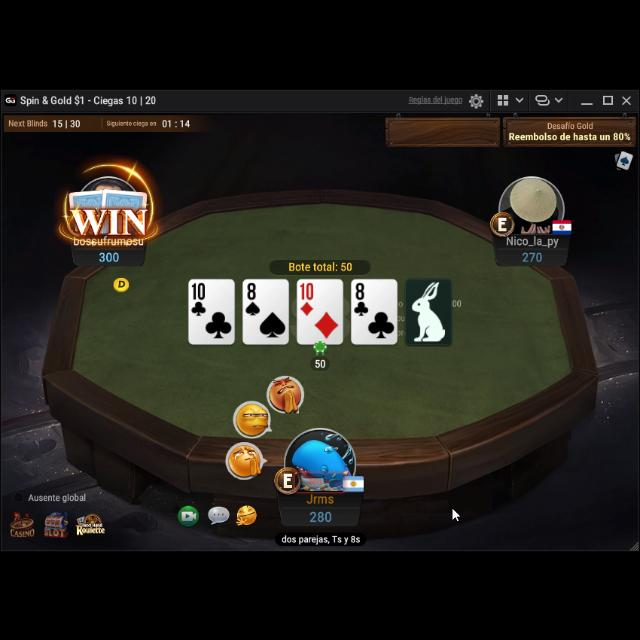8c: (352, 278, 370, 316)
8s: (244, 278, 262, 314)
Tc: (192, 278, 208, 316)
Td: (299, 278, 315, 314)
bet_text: (313, 354, 327, 366)
card_back: (99, 183, 147, 215), (68, 185, 109, 218)
dealer: (112, 272, 130, 290)
pot_text: (288, 258, 354, 270)
stack_text: (308, 505, 332, 521), (520, 247, 544, 261), (98, 246, 120, 260)
